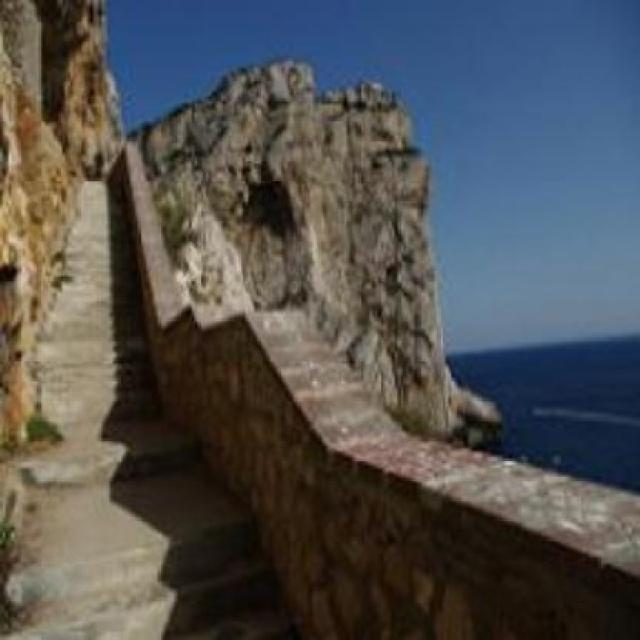stair: (20, 158, 285, 640)
